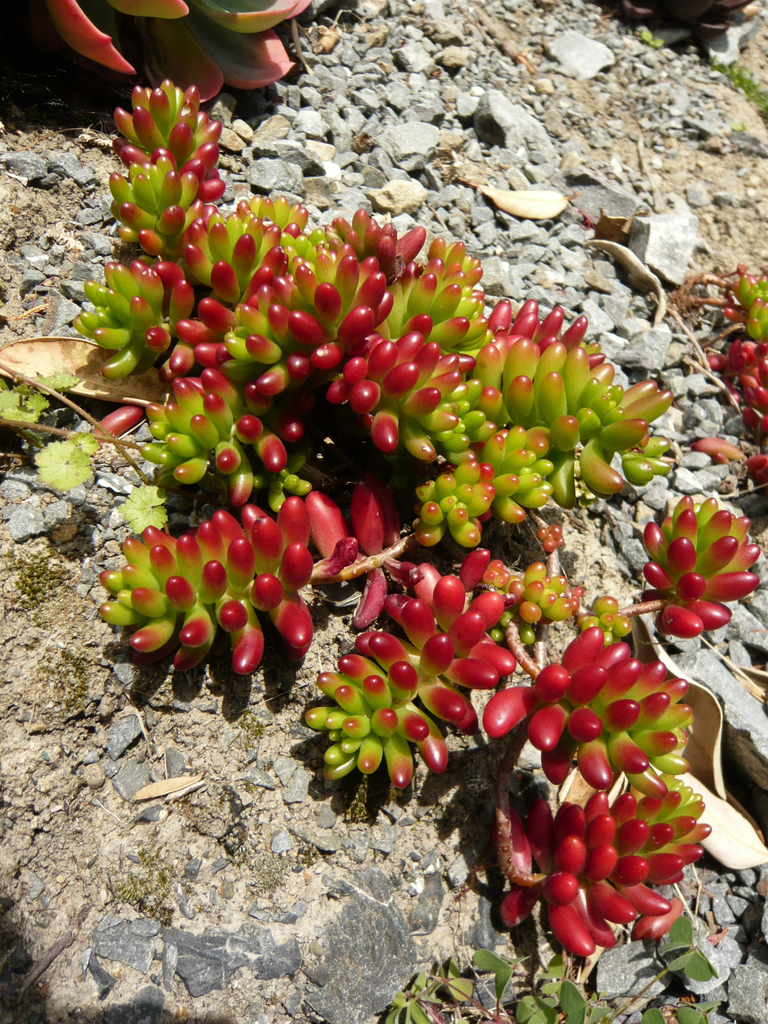person: (10, 0, 323, 138)
